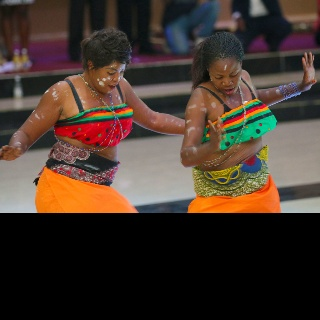without_mask: (209, 59, 242, 96)
